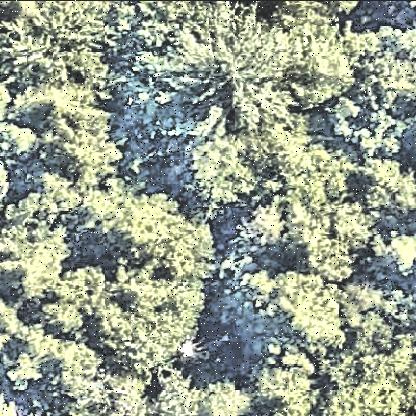tree-top: (89, 186, 217, 371), (143, 2, 298, 137), (1, 87, 123, 209), (322, 21, 416, 159), (1, 3, 116, 93), (324, 308, 416, 416), (247, 269, 345, 353), (1, 202, 75, 308), (284, 1, 354, 113), (285, 196, 378, 278), (6, 323, 100, 404), (178, 134, 251, 216), (245, 340, 315, 416), (51, 257, 111, 330), (357, 151, 416, 224), (251, 122, 304, 194), (81, 371, 149, 416), (194, 367, 256, 416), (227, 198, 285, 250), (368, 226, 416, 286), (146, 367, 200, 416)
